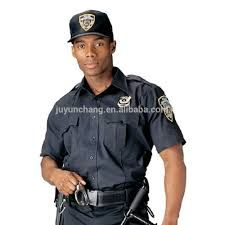uniform: (54, 78, 164, 218)
